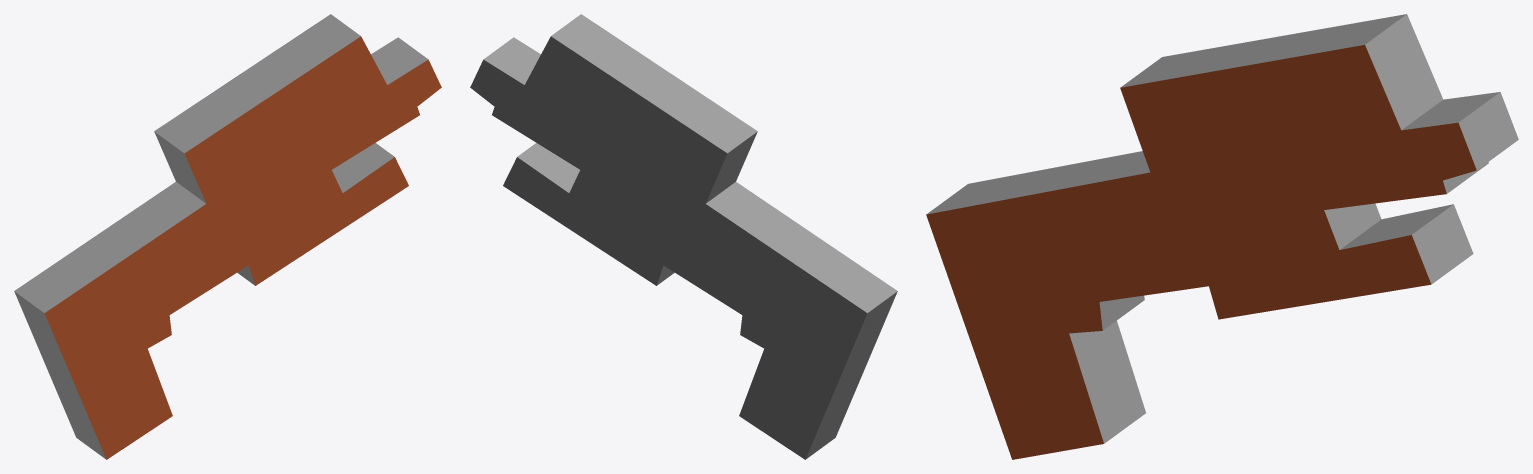
The model's file is construction_4939_assumed_A_Casa_h6m.obj.
3 views of the same model, side by side, from view 1: azimuth 30°, elevation 25°; view 2: azimuth 150°, elevation 25°; view 3: azimuth 330°, elevation 25° (orthographic). The views are drawn at different scales.
Visible parts, largest first — view 1: construction_4939_assumed_A_Casa; view 2: construction_4939_assumed_A_Casa; view 3: construction_4939_assumed_A_Casa.
Part boxes in pixels (x1,y1,x2,y2): construction_4939_assumed_A_Casa: (14, 14, 441, 459); construction_4939_assumed_A_Casa: (470, 14, 897, 459); construction_4939_assumed_A_Casa: (926, 14, 1518, 459).
Size of the model in its own units: 45.35 by 39.44 by 6.
